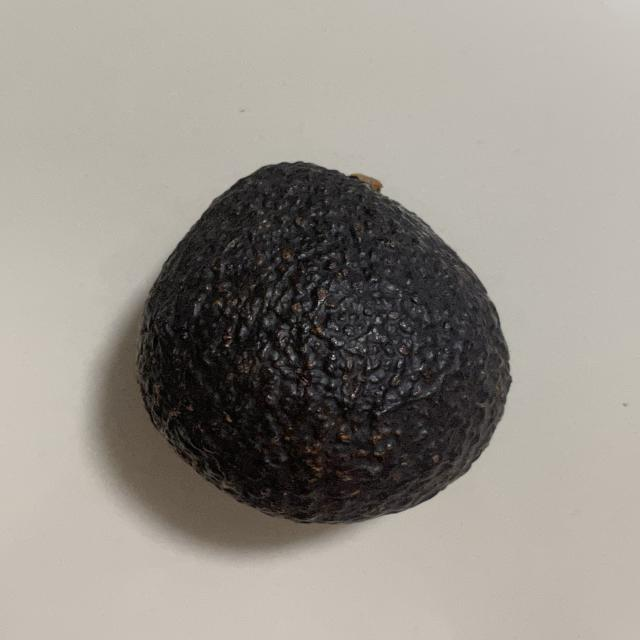Level3: (125, 151, 521, 532)
